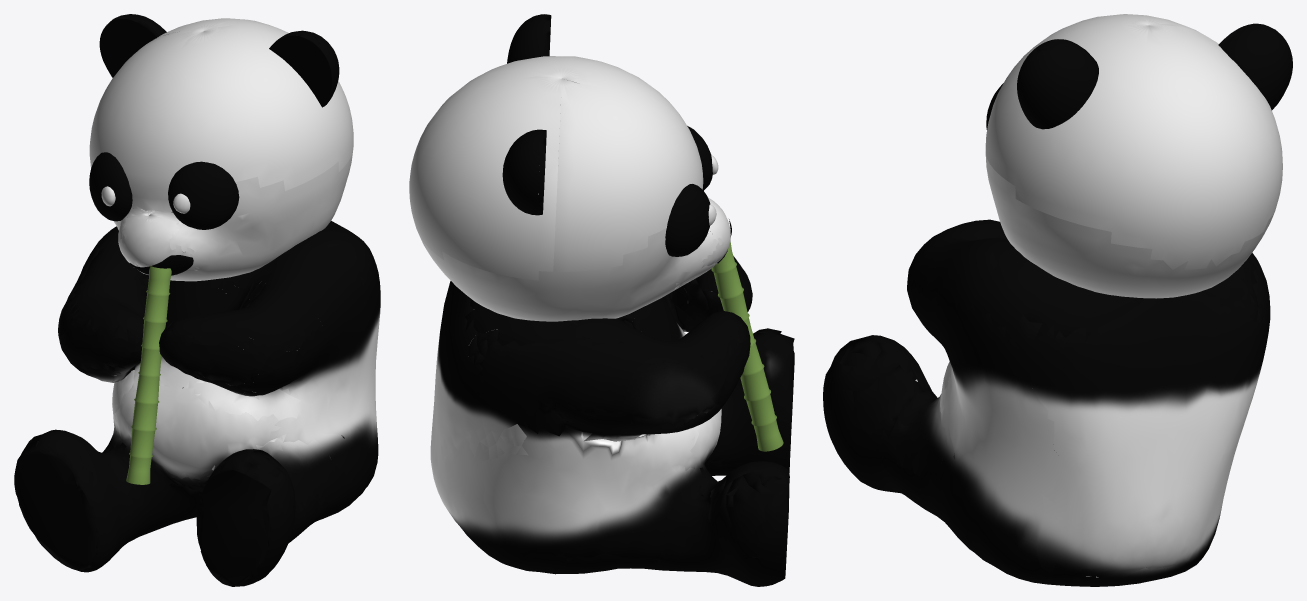
Rendered from Peluche panda.glb.
3 renders of one model, left to right at view 1: azimuth 30°, elevation 25°; view 2: azimuth 150°, elevation 25°; view 3: azimuth 270°, elevation 25°, orthographic. The views are drawn at different scales.
Parts seen in each view (by area): view 1: Estanteria_Peluche panda; view 2: Estanteria_Peluche panda; view 3: Estanteria_Peluche panda.
Boxes of the visible parts, x1,y1,x2,y2 form: Estanteria_Peluche panda: [14, 14, 380, 586]; Estanteria_Peluche panda: [409, 14, 794, 586]; Estanteria_Peluche panda: [823, 14, 1292, 586].
Size of the model in its own units: 0.2957 by 0.4062 by 0.3155.
Materials: 4 (1 with a texture image).
